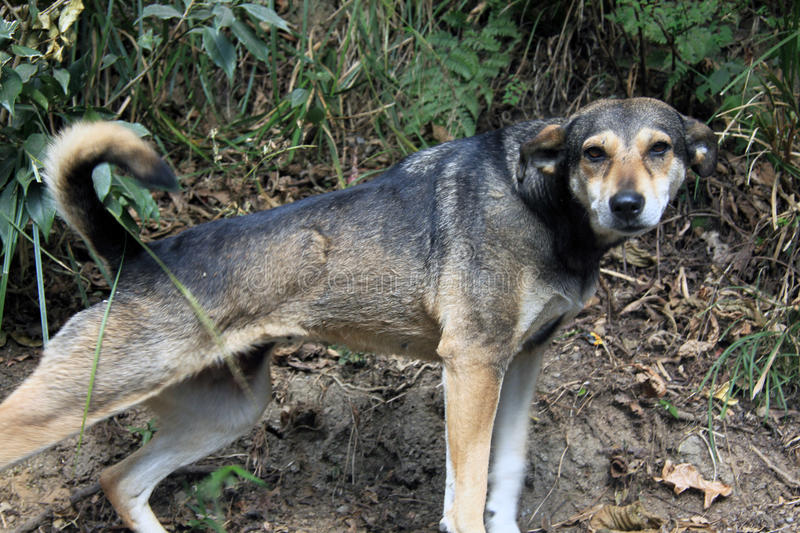nontarget: (22, 104, 698, 533)
